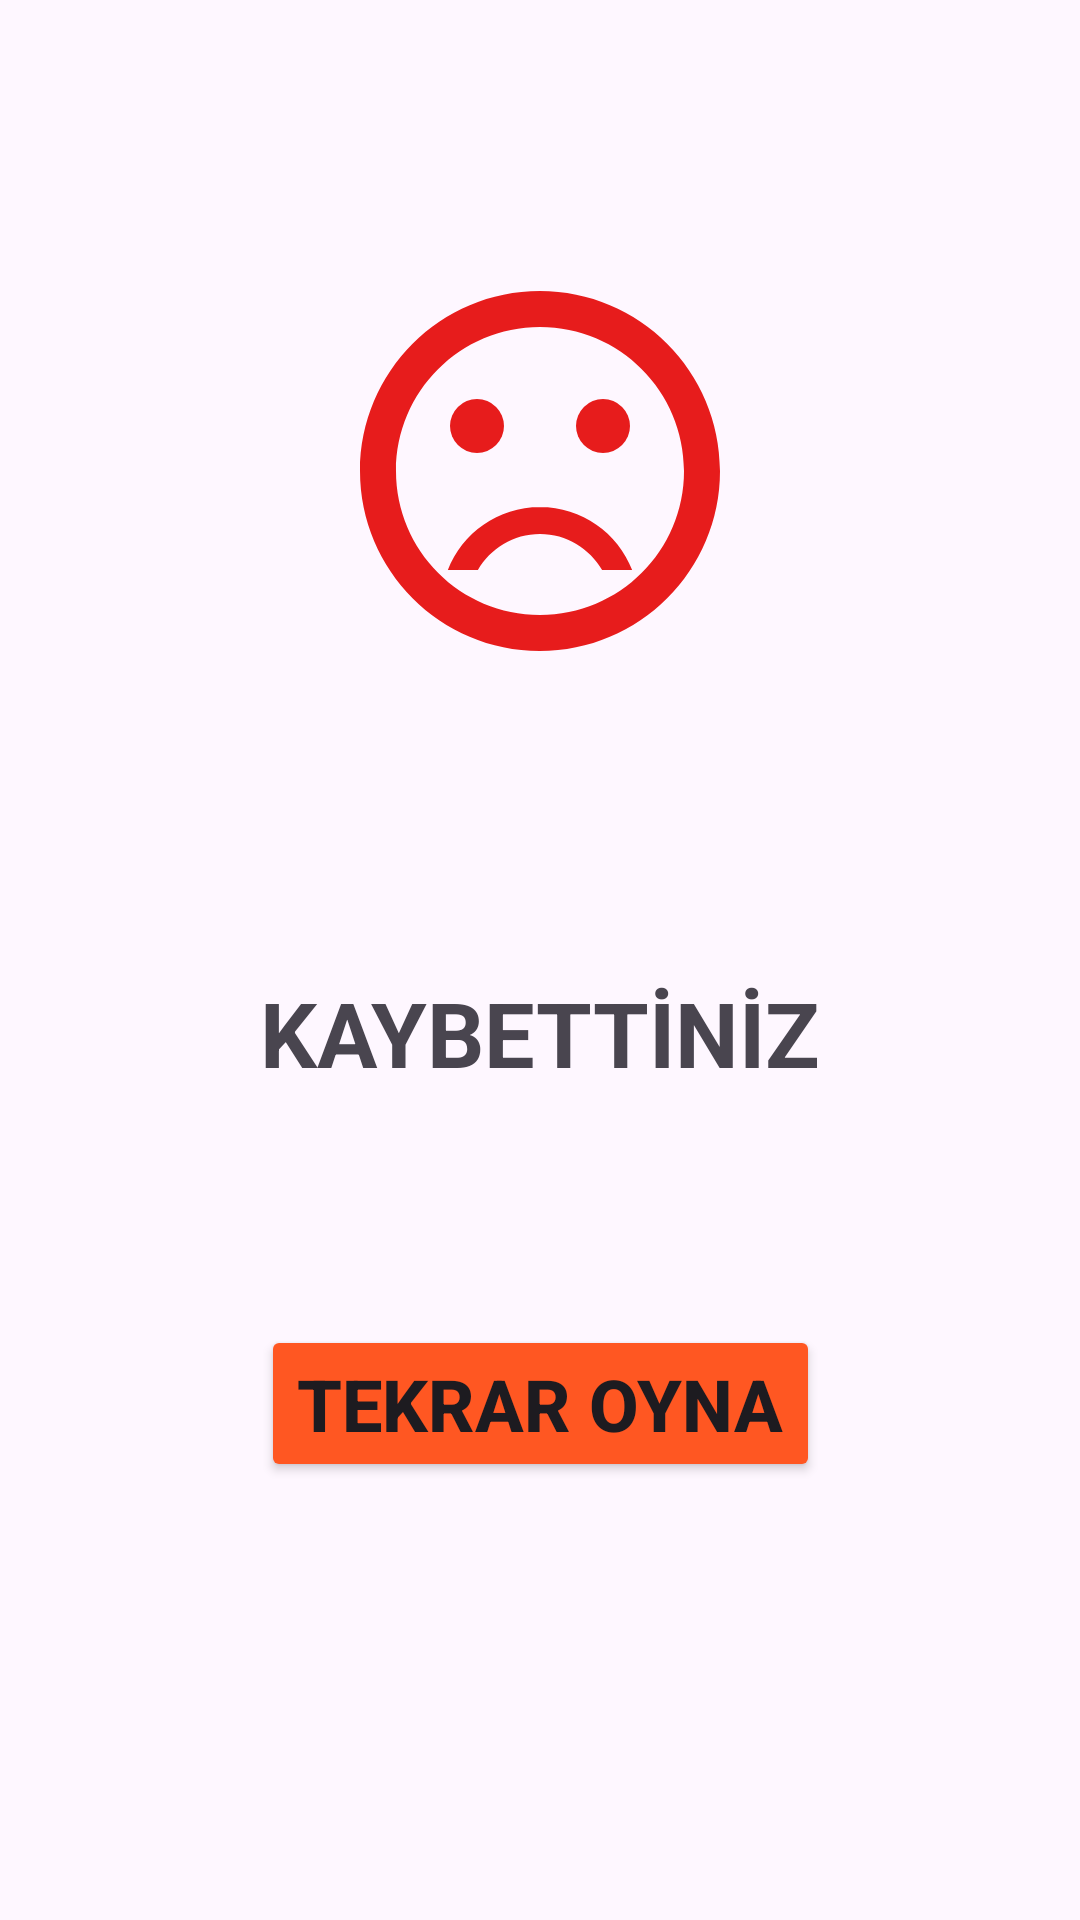

Icons on this 1080w x 1920h Android screen, each with the point to tap as [x,y]:
uzgun resim: [540,471]
